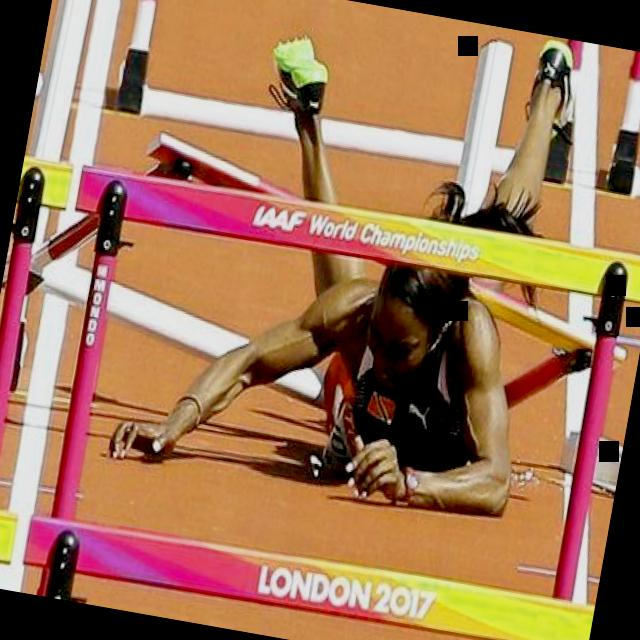Fall-Detected: (101, 0, 622, 574)
